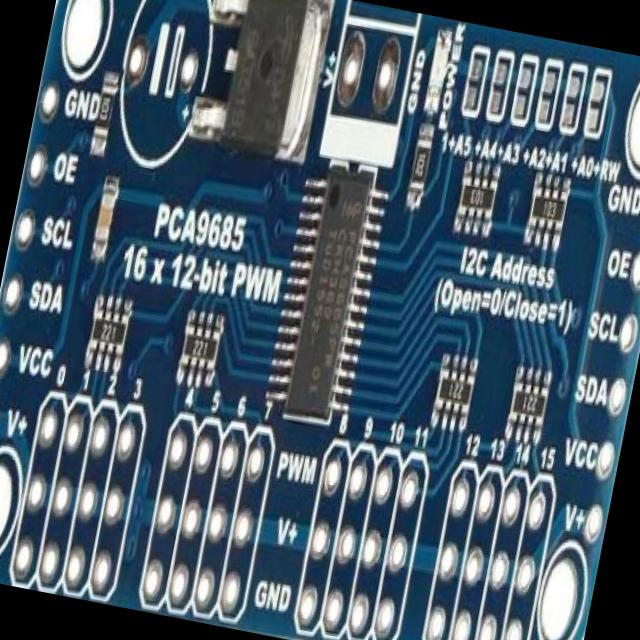IC: (275, 160, 379, 431), (187, 0, 329, 159)
LED: (424, 30, 453, 120)
capacitor: (90, 186, 118, 253)
resistor: (83, 298, 132, 374), (526, 177, 572, 246), (174, 316, 224, 370), (456, 170, 498, 230), (508, 374, 552, 428), (434, 366, 474, 414), (91, 82, 119, 149), (406, 140, 432, 198)
